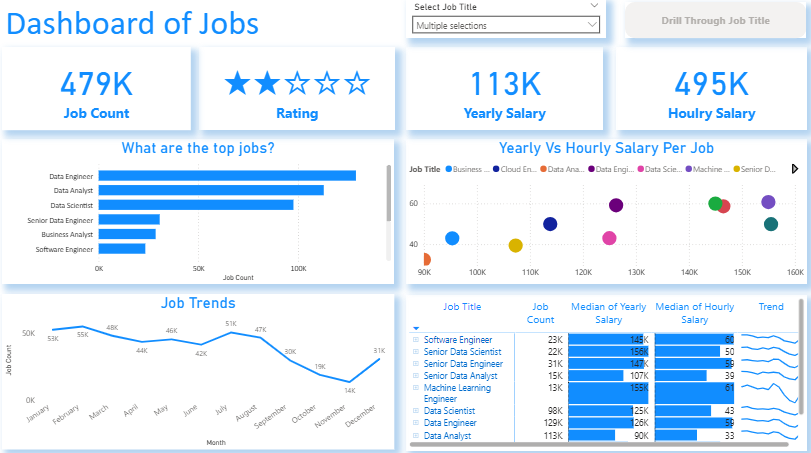

What the dashboard file says about the page in this screenshot:
{"tool":"powerbi","page":{"name":"Jobs Dashboard","canvas":[1280,720],"ordinal":0},"visuals":[{"type":"textbox","box":[10,0,445,76.7],"z":0},{"type":"slicer","fields":{"Values":["job_postings_flat.job_title_short"]},"box":[640,0,313.3,63.3],"z":1000},{"type":"card","fields":{"Values":["job_postings_flat.Median of salary_year_avg star rating"]},"box":[316.7,76.7,306.7,130],"z":2000},{"type":"card","fields":{"Values":["CountNonNull(job_postings_flat.job_title)"]},"box":[10,76.7,295,130],"z":3000},{"type":"card","fields":{"Values":["Median(job_postings_flat.salary_year_avg)"]},"box":[640,76.7,308.3,130],"z":4000},{"type":"card","fields":{"Values":["Median(job_postings_flat.salary_hour_avg)"]},"box":[968.8,76.6,298.4,129.7],"z":5000},{"type":"barChart","title":"What are the top jobs?","fields":{"Category":["job_postings_flat.job_title_short"],"Y":["CountNonNull(job_postings_flat.job_title_short)"]},"box":[10,220,613.3,226.7],"z":6000},{"type":"scatterChart","title":"Yearly Vs Hourly Salary Per Job","fields":{"X":["Median(job_postings_flat.salary_year_avg)"],"Series":["job_postings_flat.job_title_short"],"Y":["Median(job_postings_flat.salary_hour_avg)"]},"box":[640,220,626.7,226.7],"z":7000},{"type":"pivotTable","title":"Matrix","fields":{"Rows":["job_postings_flat.job_title_short","job_postings_flat.job_posted_date.Variation.Date Hierarchy.Quarter"],"Values":["CountNonNull(job_postings_flat.job_title_short)","Median(job_postings_flat.salary_year_avg)","Median(job_postings_flat.salary_hour_avg)","SparklineData(CountNonNull(job_postings_flat.job_title_short)_[job_postings_flat.job_posted_date.Variation.Date Hierarch"]},"box":[640,463.3,626.7,243.3],"z":8000},{"type":"actionButton","title":"Drill Through Job Title","box":[983.3,6.7,283.3,56.7],"z":9000},{"type":"lineChart","title":"Job Trends","fields":{"Category":["job_postings_flat.job_posted_date.Variation.Date Hierarchy.Month"],"Y":["CountNonNull(job_postings_flat.job_title_short)"]},"box":[10,463,613,243],"z":10000}]}

Visuals, with their boxes in screenshot pixels (x1, y1, x2, y2), scaled from the page's 1280x720 canvas onto the 811x453 screenshot:
textbox: (left=6, top=0, right=288, bottom=48)
slicer - job_postings_flat.job_title_short: (left=406, top=0, right=604, bottom=40)
card - job_postings_flat.Median of salary_year_avg star rating: (left=201, top=48, right=395, bottom=130)
card - CountNonNull(job_postings_flat.job_title): (left=6, top=48, right=193, bottom=130)
card - Median(job_postings_flat.salary_year_avg): (left=406, top=48, right=601, bottom=130)
card - Median(job_postings_flat.salary_hour_avg): (left=614, top=48, right=803, bottom=130)
"What are the top jobs?" barChart: (left=6, top=138, right=395, bottom=281)
"Yearly Vs Hourly Salary Per Job" scatterChart: (left=406, top=138, right=803, bottom=281)
"Matrix" pivotTable: (left=406, top=291, right=803, bottom=445)
"Drill Through Job Title" actionButton: (left=623, top=4, right=803, bottom=40)
"Job Trends" lineChart: (left=6, top=291, right=395, bottom=444)
